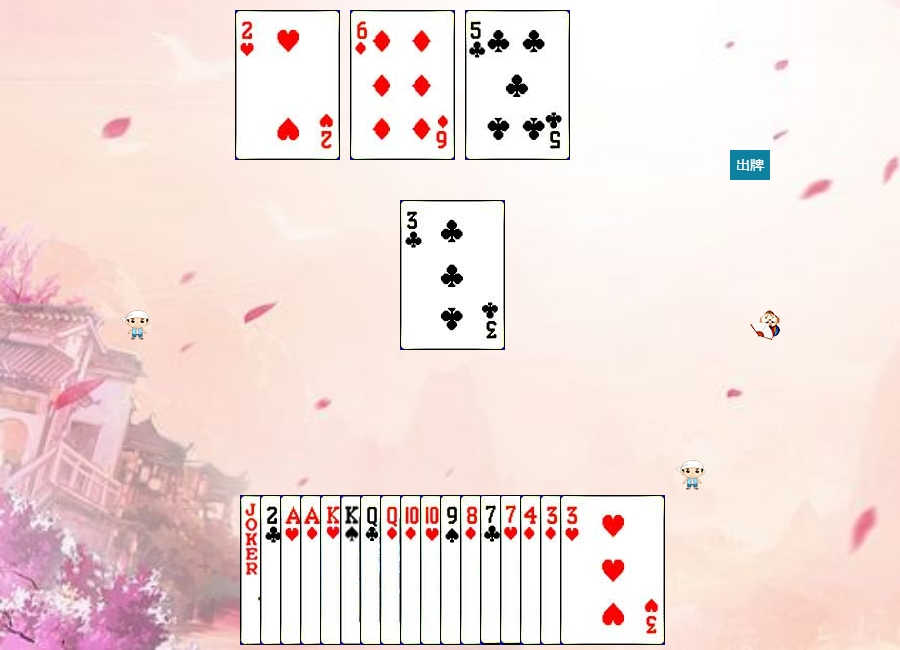10~1: (400, 495, 505, 645)
10~3: (420, 495, 525, 645)
12~1: (380, 495, 485, 645)
12~2: (360, 495, 465, 645)
13~3: (320, 495, 425, 645)
13~4: (340, 495, 445, 645)
14~1: (300, 495, 405, 645)
14~3: (280, 495, 385, 645)
15~2: (260, 495, 365, 645)
15~3: (235, 10, 340, 160)
18~4: (240, 495, 345, 645)
3~1: (540, 495, 645, 645)
3~2: (400, 200, 505, 350)
3~3: (560, 495, 665, 645)
4~1: (520, 495, 625, 645)
5~2: (465, 10, 570, 160)
6~1: (350, 10, 455, 160)
7~2: (480, 495, 585, 645)
7~3: (500, 495, 605, 645)
8~1: (460, 495, 565, 645)
9~4: (440, 495, 545, 645)
